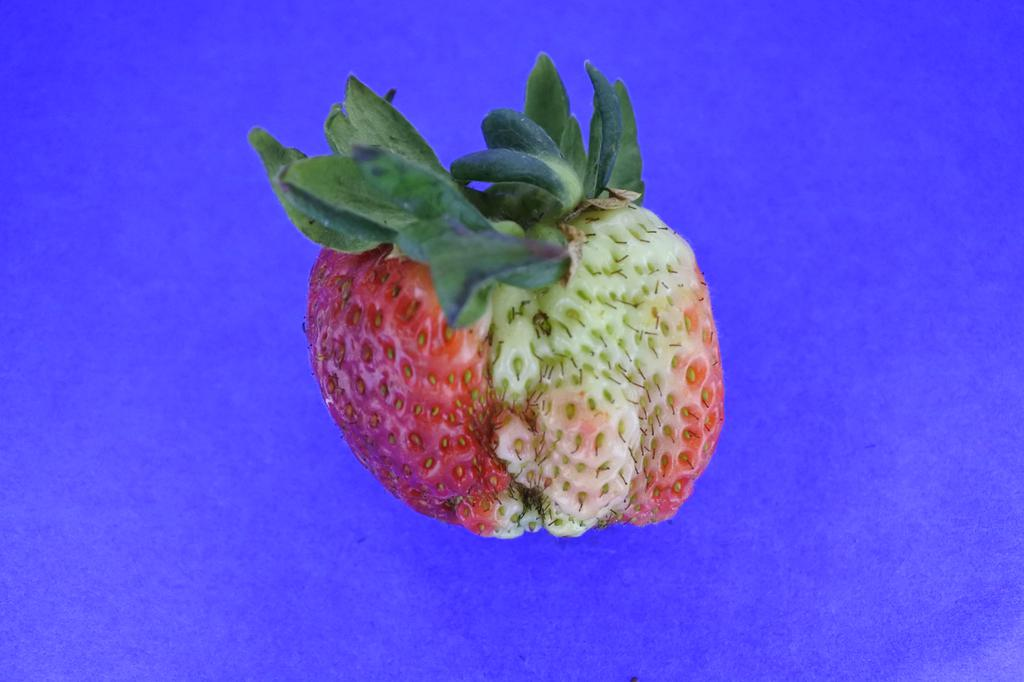red strawberry: (249, 54, 727, 540)
